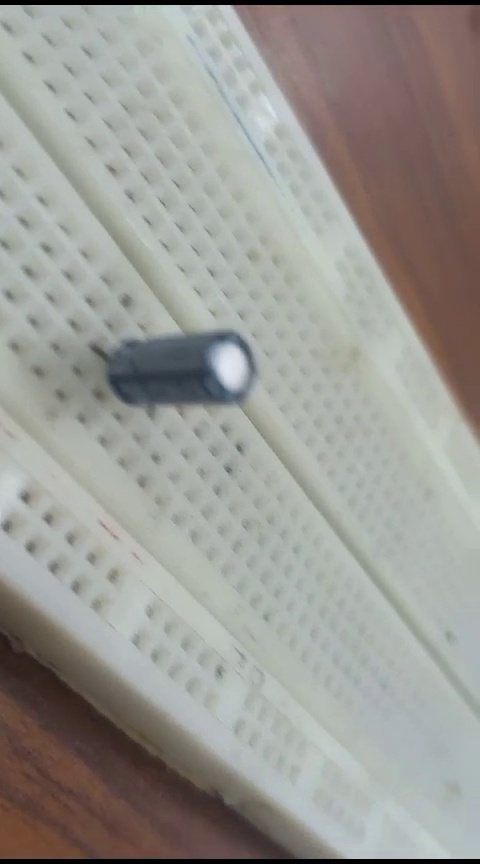capacitor: (76, 312, 258, 409)
